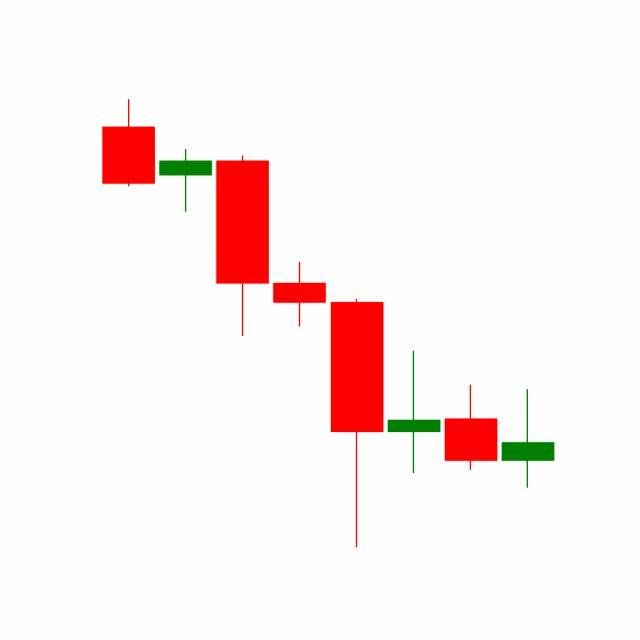Hikkake Pattern: (270, 258, 555, 549)
